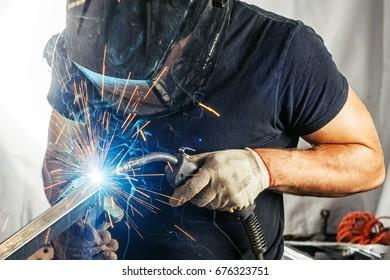gloves: (166, 146, 272, 212), (52, 218, 120, 260)
